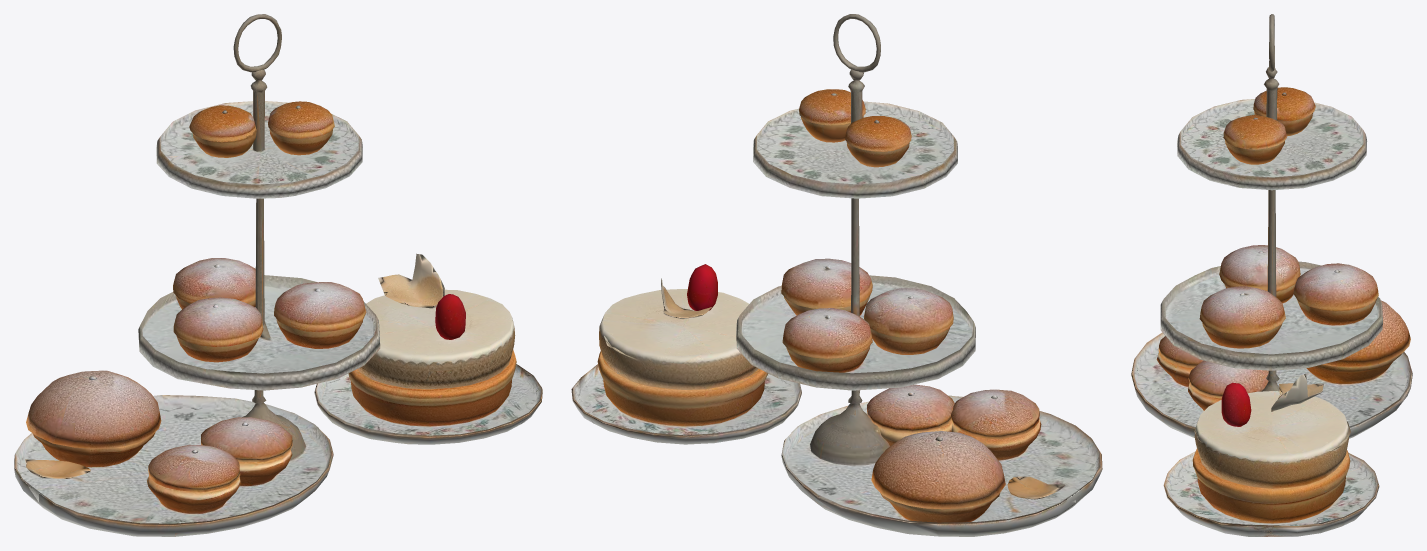
Rendered from cake-stand.glb.
The picture shows the model from 3 angles, left to right: view 1: azimuth 30°, elevation 25°; view 2: azimuth 150°, elevation 25°; view 3: azimuth 270°, elevation 25°; orthographic projection. The views are drawn at different scales.
Bounding box in the file's own units: 1 × 0.9005 × 0.5416.
Materials: 1 (1 with a texture image).
